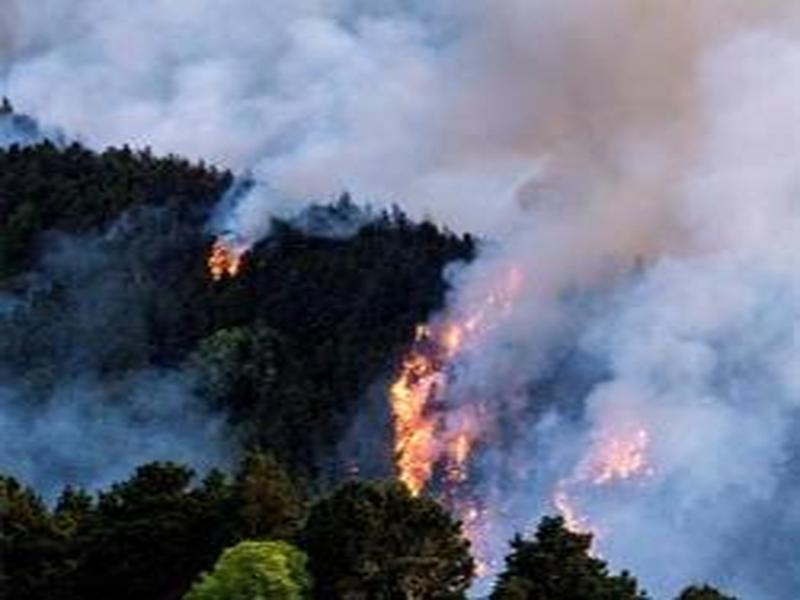FIRE: (162, 214, 727, 600)
